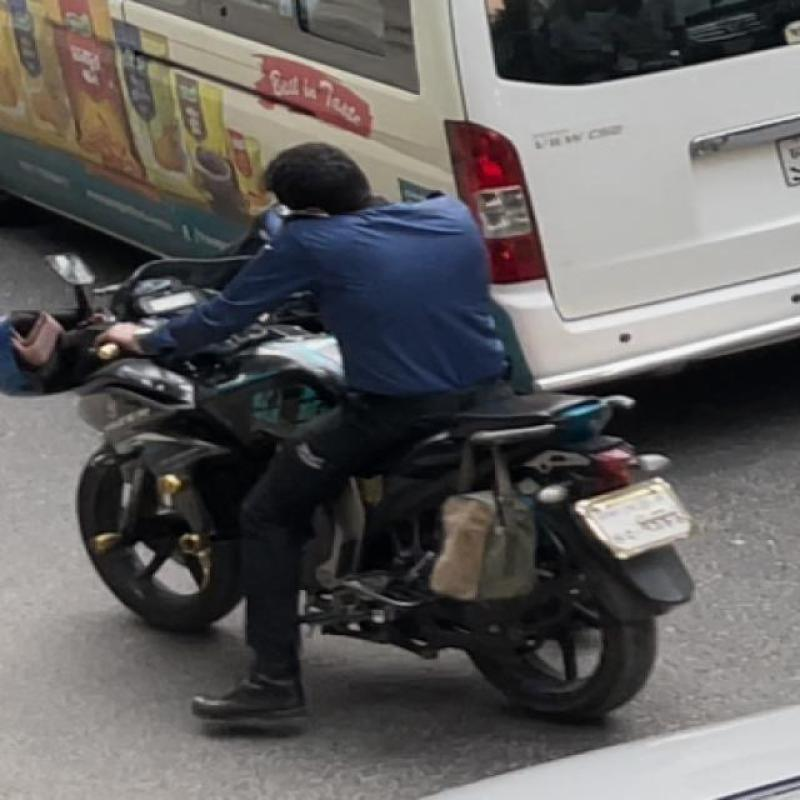nohelmet: (250, 141, 395, 217)
